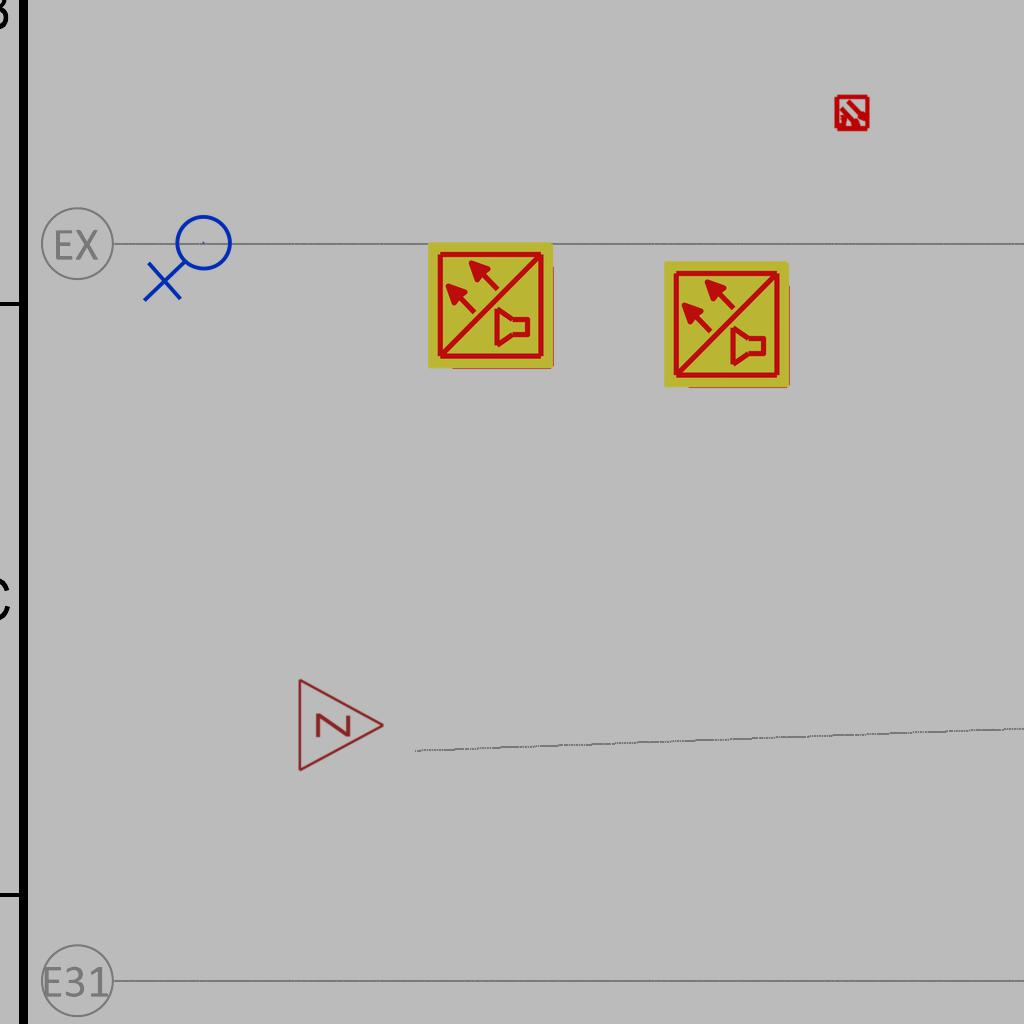Elektroanschluss_allgemein_230V_Geraeteanschlussdose_230V: (142, 213, 241, 307)
OKW_Multisensormelder_(Kombination_optischer_Rauch-Kahlenmonoxid_Waerme-Melder): (425, 239, 557, 371), (661, 258, 793, 390)
OT_Multisensormelder_(Kombination_RMO_WMD): (824, 86, 880, 142)
Zimmersignalleuchte: (291, 675, 391, 773)
